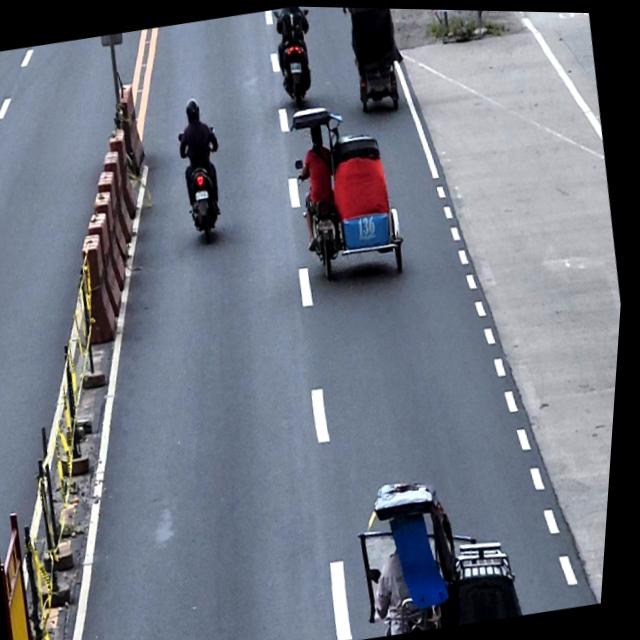E-bike: (336, 6, 412, 118)
License-Plate: (320, 215, 338, 230), (196, 187, 213, 200), (289, 59, 304, 72)
Motorcycle: (172, 123, 237, 245), (267, 5, 324, 106)
Tricycle: (356, 458, 539, 638), (277, 91, 419, 287)
